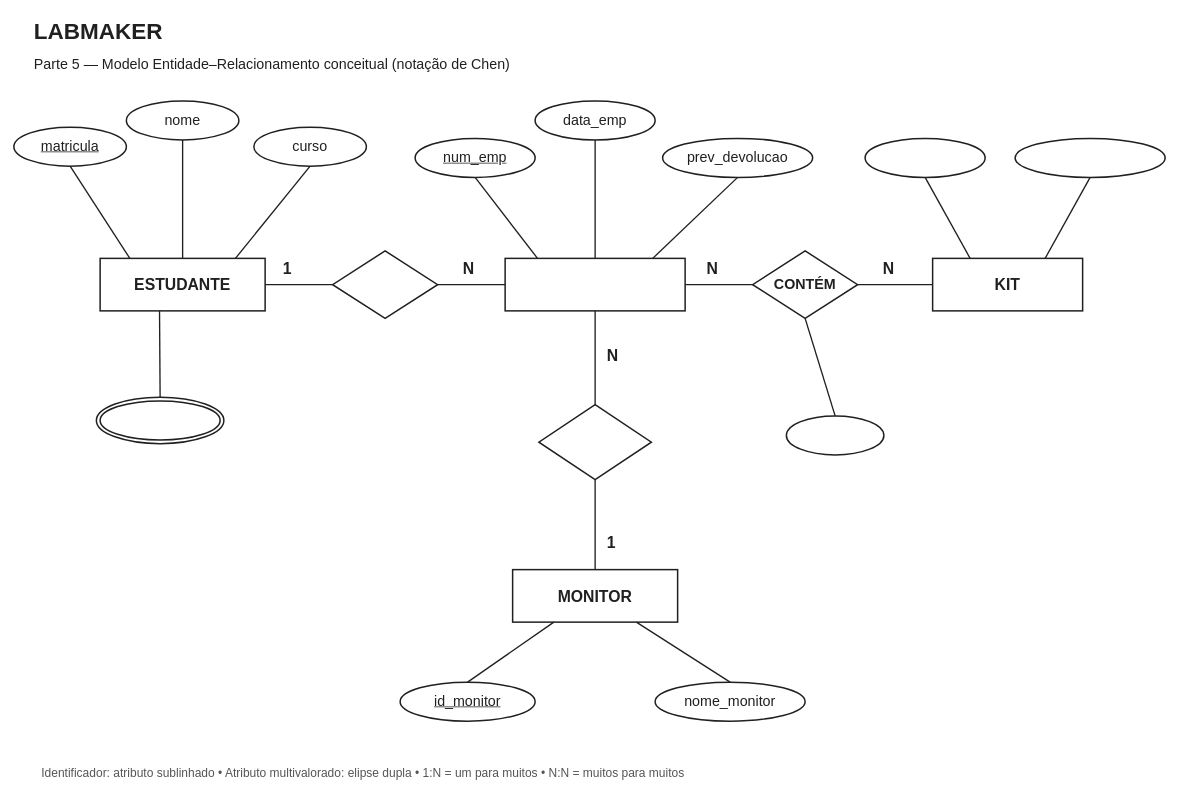
The diagram is 1178 pixels wide and 797 high, and some of its shapes have lost their labels. Here are the shapes that lost their labels. From the top down, the box of each, then its label:
(864, 137, 986, 178): cod_kit
(1014, 137, 1166, 178): descricao_kit
(332, 250, 438, 319): REALIZA
(504, 257, 686, 311): EMPRESTIMO
(95, 396, 224, 444): telefones
(785, 415, 884, 455): qtd
(538, 404, 652, 480): REGISTRA
